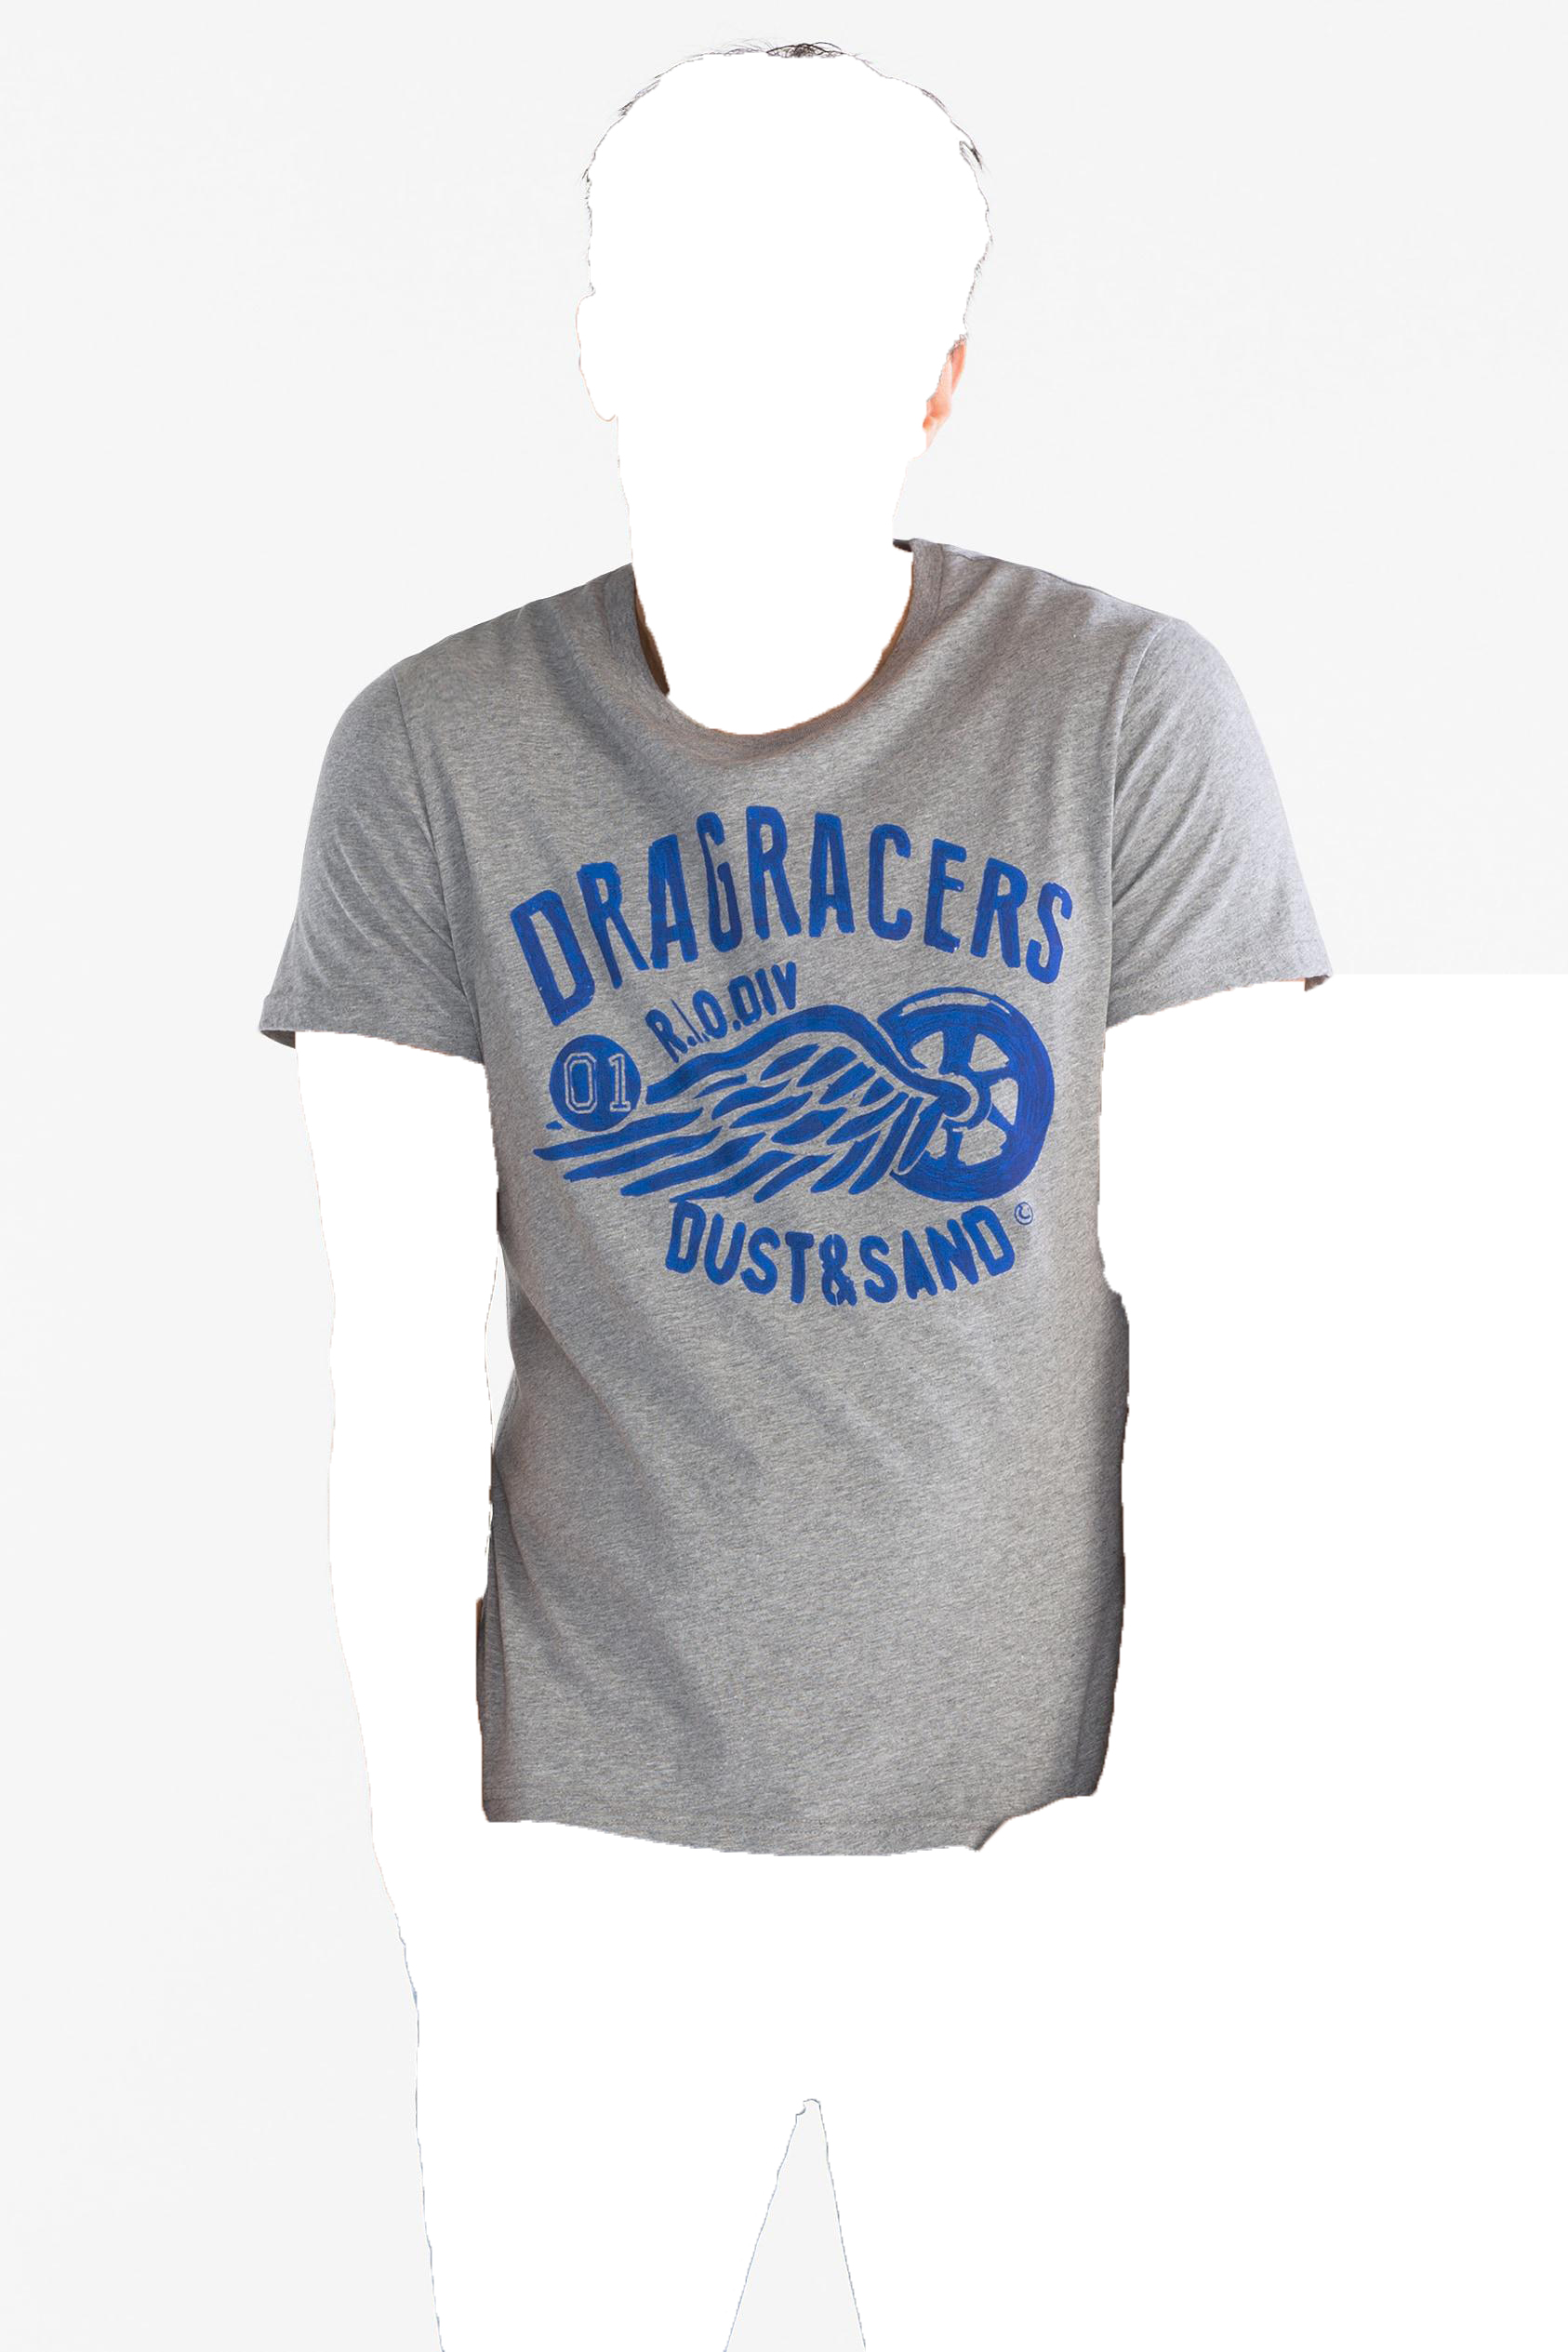teeshirt: (238, 556, 1389, 1923)
